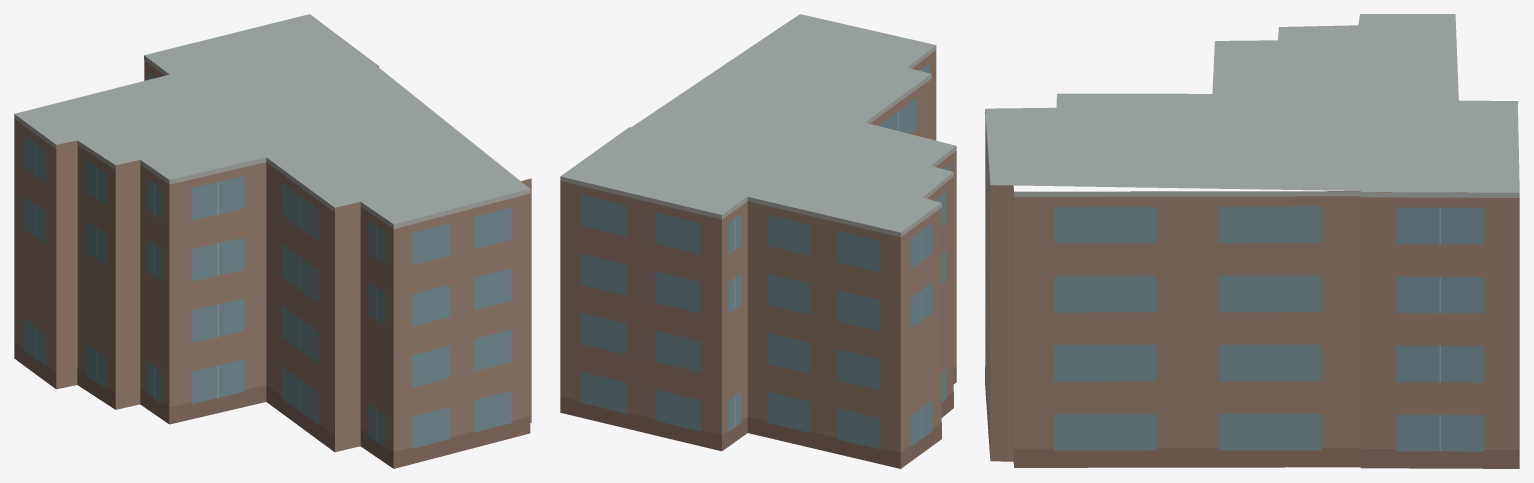
File: survey-upis-32583229.glb
3 views of the same model, side by side, from view 1: azimuth 30°, elevation 25°; view 2: azimuth 150°, elevation 25°; view 3: azimuth 270°, elevation 25° (orthographic). The views are drawn at different scales.
Visible parts, largest first — view 1: survey-upis-32583229.tmp; view 2: survey-upis-32583229.tmp; view 3: survey-upis-32583229.tmp.
Part boxes in pixels (x1,y1,x2,y2): survey-upis-32583229.tmp: [14, 14, 531, 468]; survey-upis-32583229.tmp: [560, 14, 956, 468]; survey-upis-32583229.tmp: [985, 14, 1519, 468].
Bounding box in the file's own units: 17.63 × 12.7 × 22.29.
